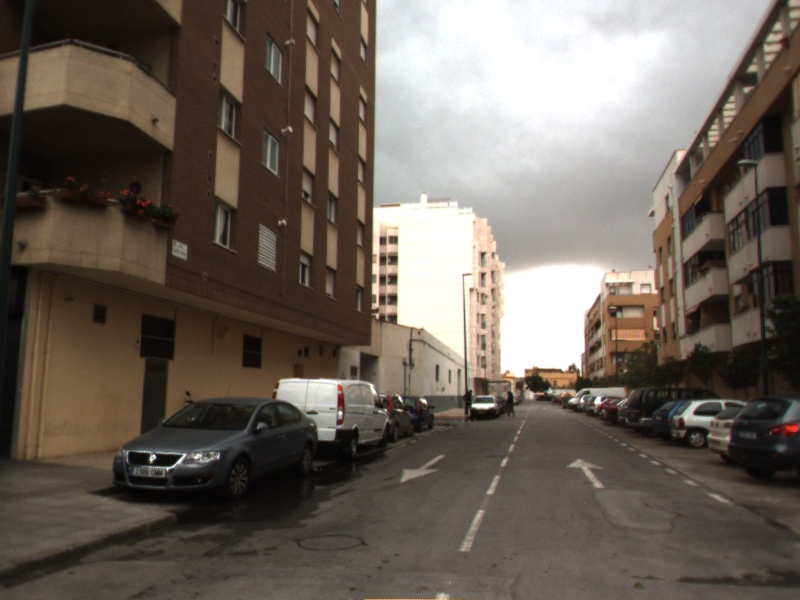STRAIGHT: (564, 456, 608, 490)
